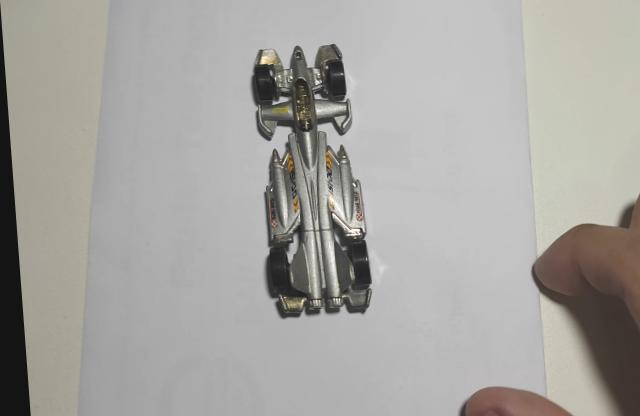05_DC121: (249, 45, 370, 320)
